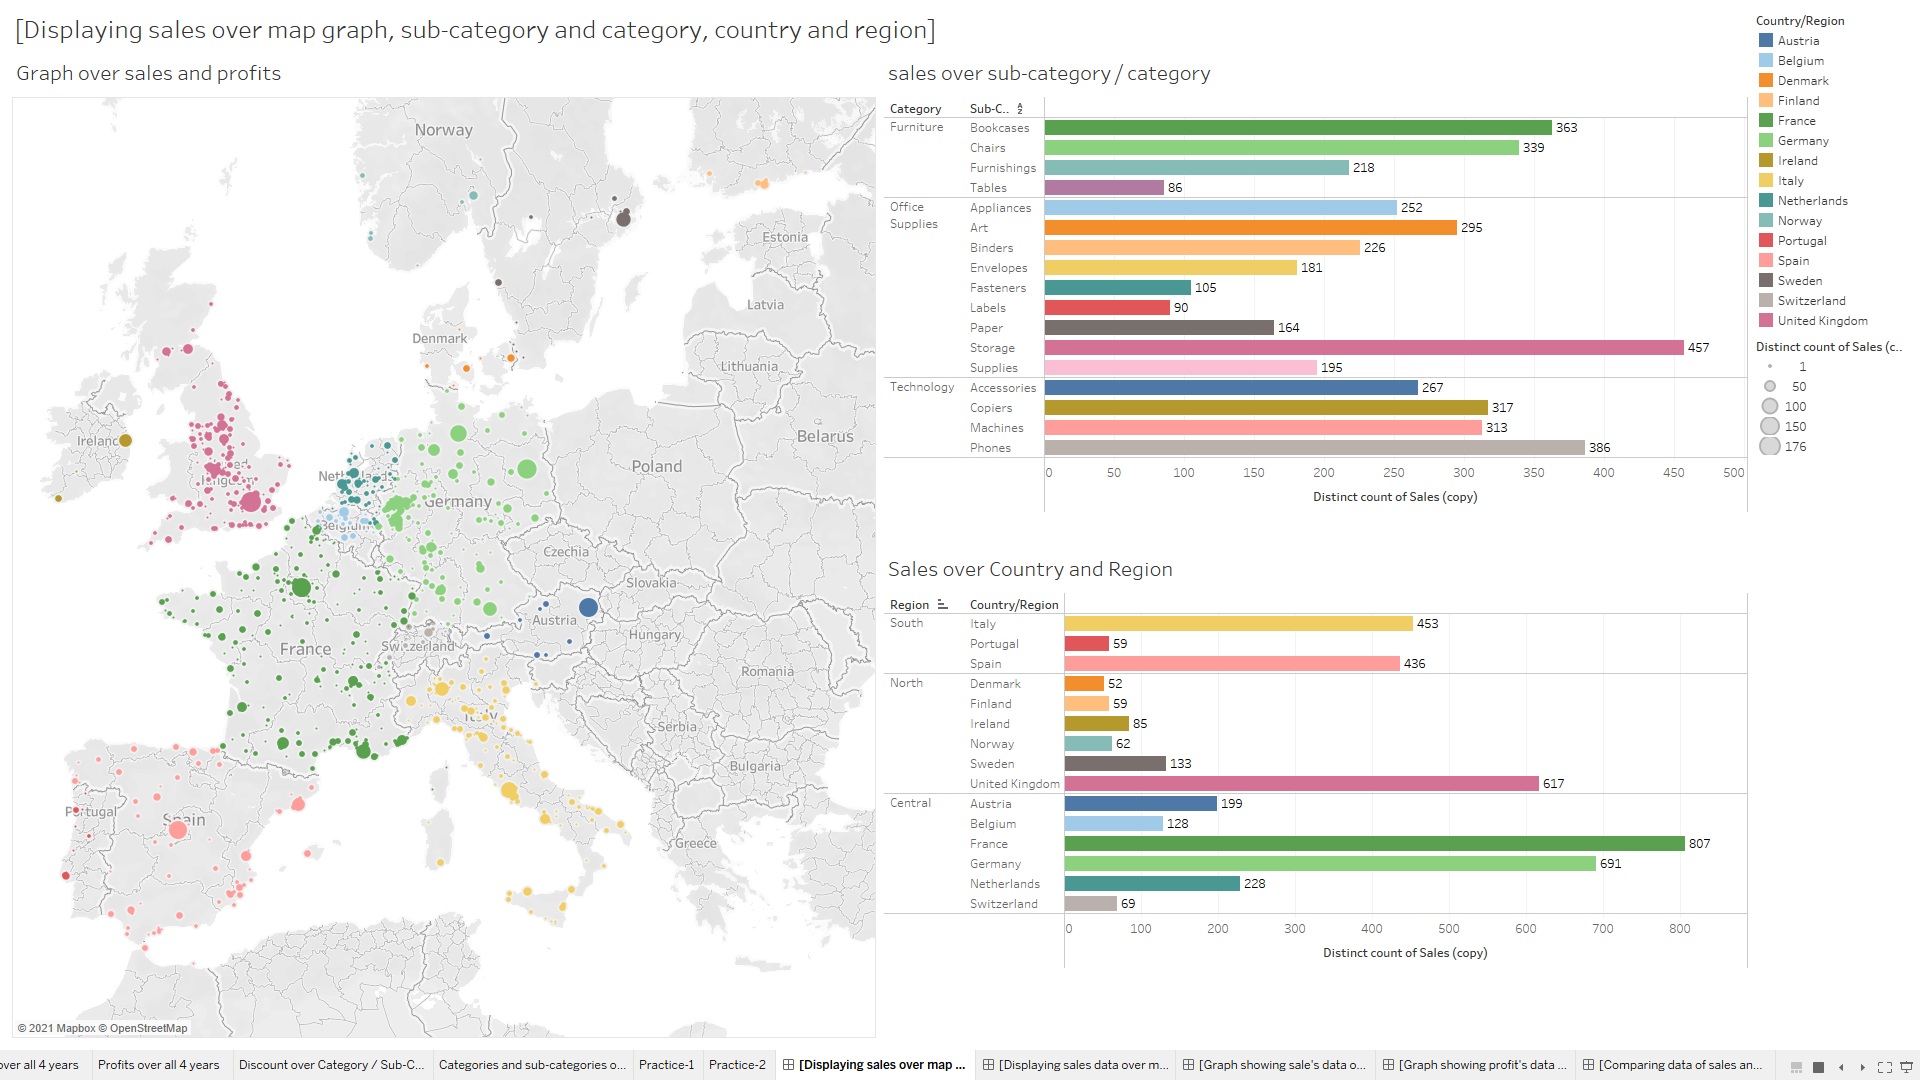

Layout of this report page (visuals, bound fields, positions):
{"tool":"tableau","page":{"name":"[Displaying sales over sub-category, category, city, country or region]","canvas":[1000,1000],"units":"permille","ordinal":2},"visuals":[{"type":"title","box":[5,8.8,990,46.5]},{"type":"worksheet","title":"Graph over sales and profits","mark":"Automatic","box":[5,55.3,494.9,935.8]},{"type":"worksheet","title":"sales over sub-category / category","mark":"Automatic","rows":["Category","Sub-Category"],"cols":["Sales (copy)_855965427656978433"],"box":[499.9,55.3,495,467.9]},{"type":"worksheet","title":"Sales over Country and Region","mark":"Automatic","rows":["Region","Country/Region"],"cols":["Sales (copy)_855965427656978433"],"box":[499.9,523.2,495,468]}]}

Visuals, with their boxes on the dashboard's canvas, which has no fixed pixel size, in thousandths of its width and height (x1, y1, x2, y2). These are canvas units, not pixel positions in the 1920x1080 screenshot, which may show the page scaled, cropped or inside an application window:
title: l=5, t=9, r=995, b=55
"Graph over sales and profits" worksheet: l=5, t=55, r=500, b=991
"sales over sub-category / category" worksheet: l=500, t=55, r=995, b=523
"Sales over Country and Region" worksheet: l=500, t=523, r=995, b=991
